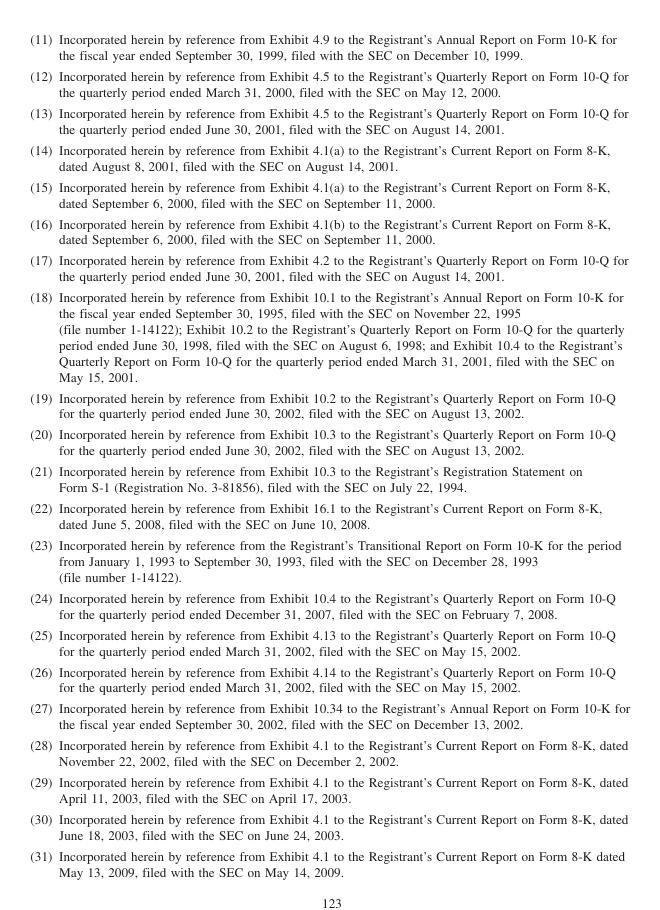table: (29, 29, 629, 879)
table column: (54, 29, 629, 879), (29, 29, 54, 879)
table row: (29, 285, 629, 386), (29, 533, 629, 586), (29, 64, 629, 101), (29, 101, 629, 138), (29, 138, 629, 175), (29, 211, 629, 248), (29, 248, 629, 285), (29, 422, 629, 459), (29, 459, 629, 496), (29, 496, 629, 533), (29, 586, 629, 623), (29, 659, 629, 696), (29, 696, 629, 733), (29, 733, 629, 770), (29, 770, 629, 807), (29, 807, 629, 844), (29, 175, 629, 211), (29, 386, 629, 422), (29, 623, 629, 659), (29, 29, 629, 64), (29, 844, 629, 879)
